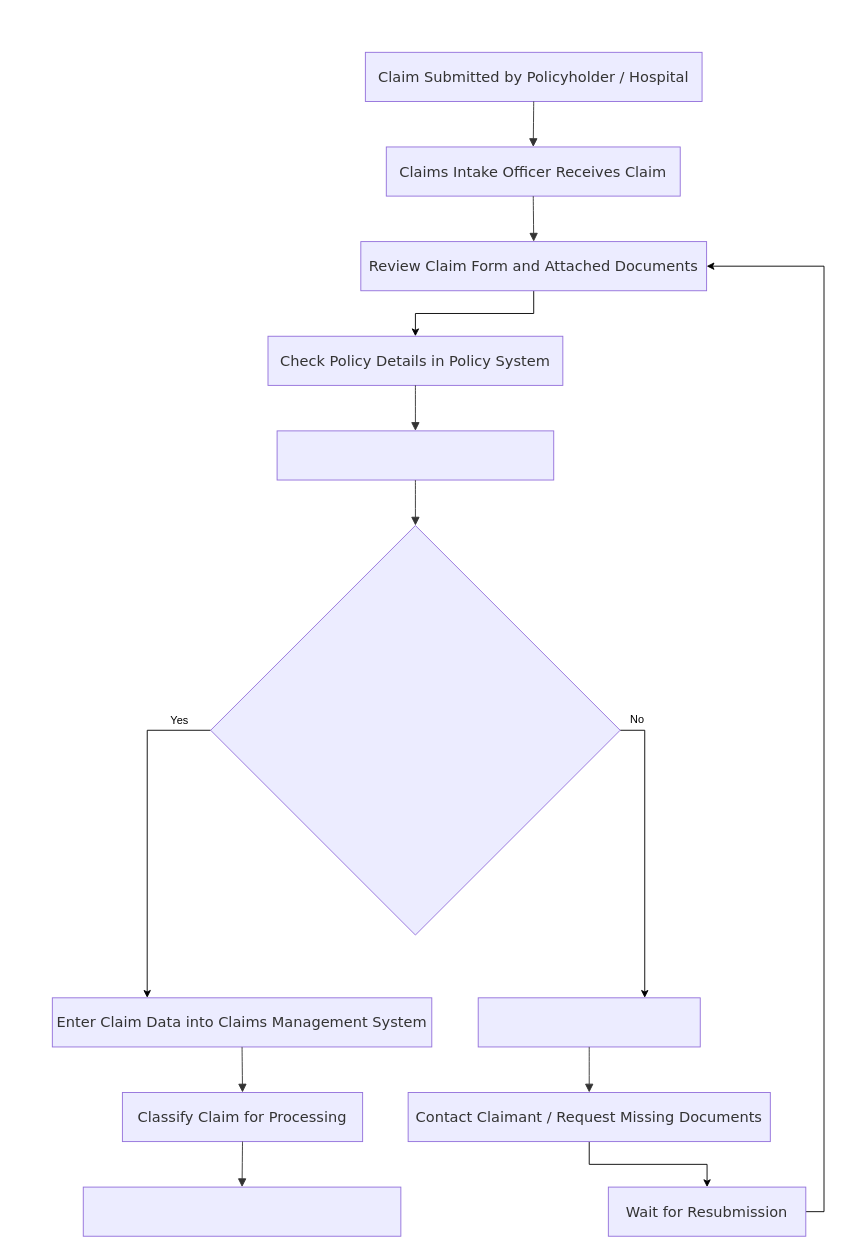
Image size: 847x1252. Some labels were removed from this diagram. The shapes that lost their labels are listed below. From the top down, each one's centre as x and y in pixels, then its label:
At pixel 415 455: "Manually Verify Claim Information".
At pixel 415 730: "Are all required documents available?".
At pixel 588 1022: "Mark Claim as Incomplete".
At pixel 241 1211: "Manually Route Claim to Claims Assessor".
